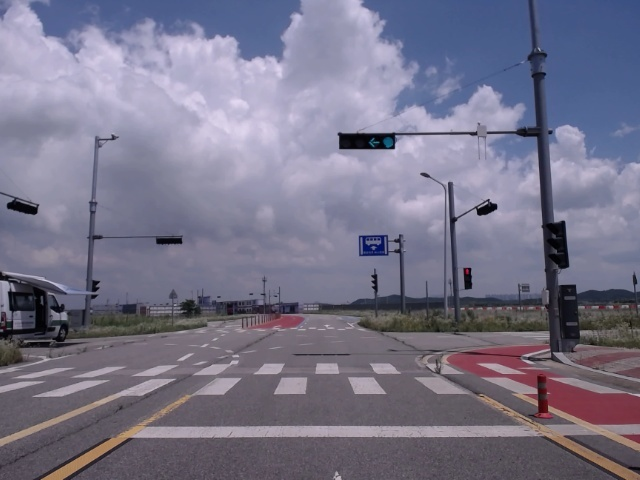all_green_4: (341, 135, 397, 150)
